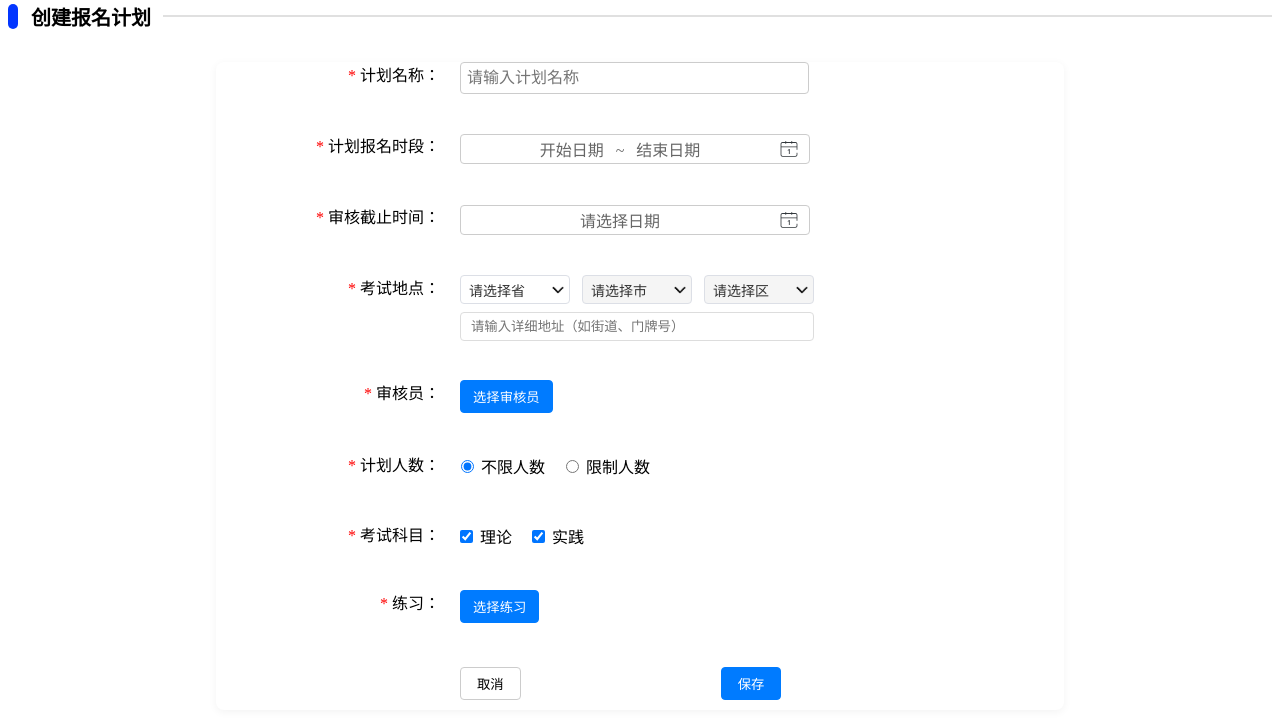
Test: 报名计划创建页面 › 表单验证测试 › 填写计划名称后应清除名称错误提示
The image size is (1280, 720).
(page scrolled)
# 先点击保存显示错误
Click the button "保存": (751, 684) left=721, top=667, right=781, bottom=700
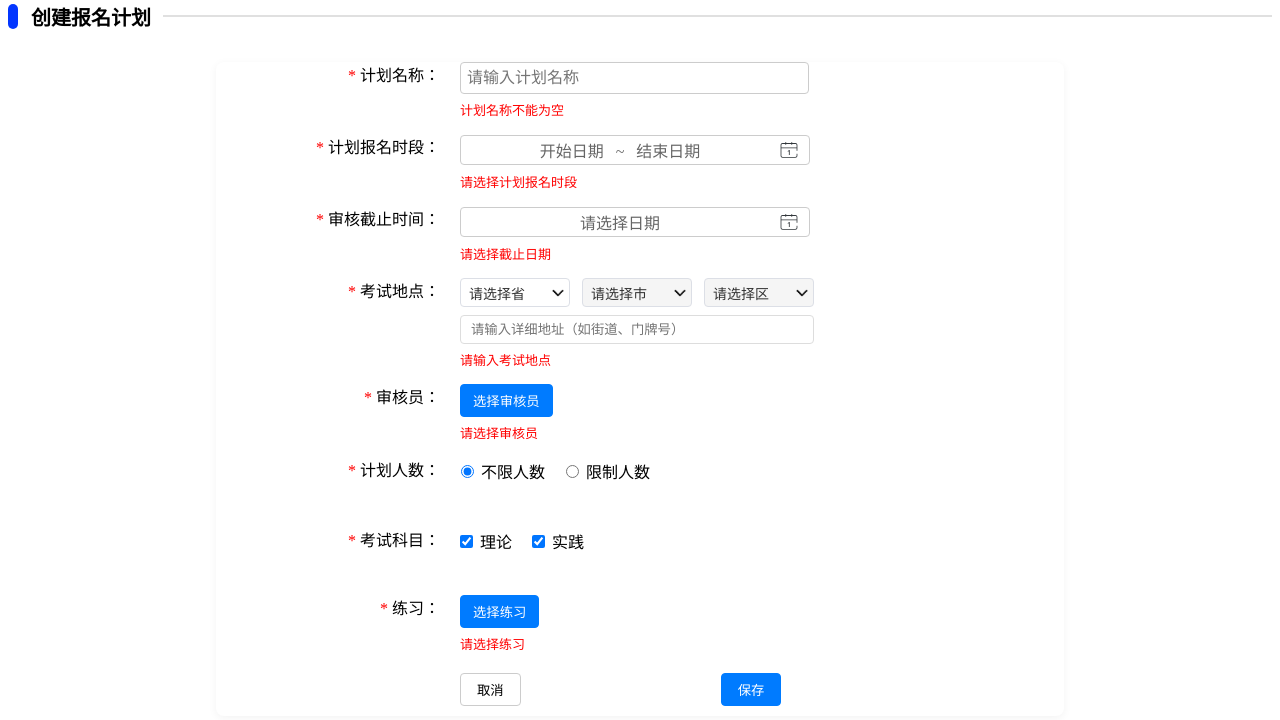
Result: the text "计划名称不能为空" is shown at left=460, top=103, right=564, bottom=118
In the field with placeholder "请输入计划名称": (634, 78) left=460, top=62, right=809, bottom=94, type "测试计划"
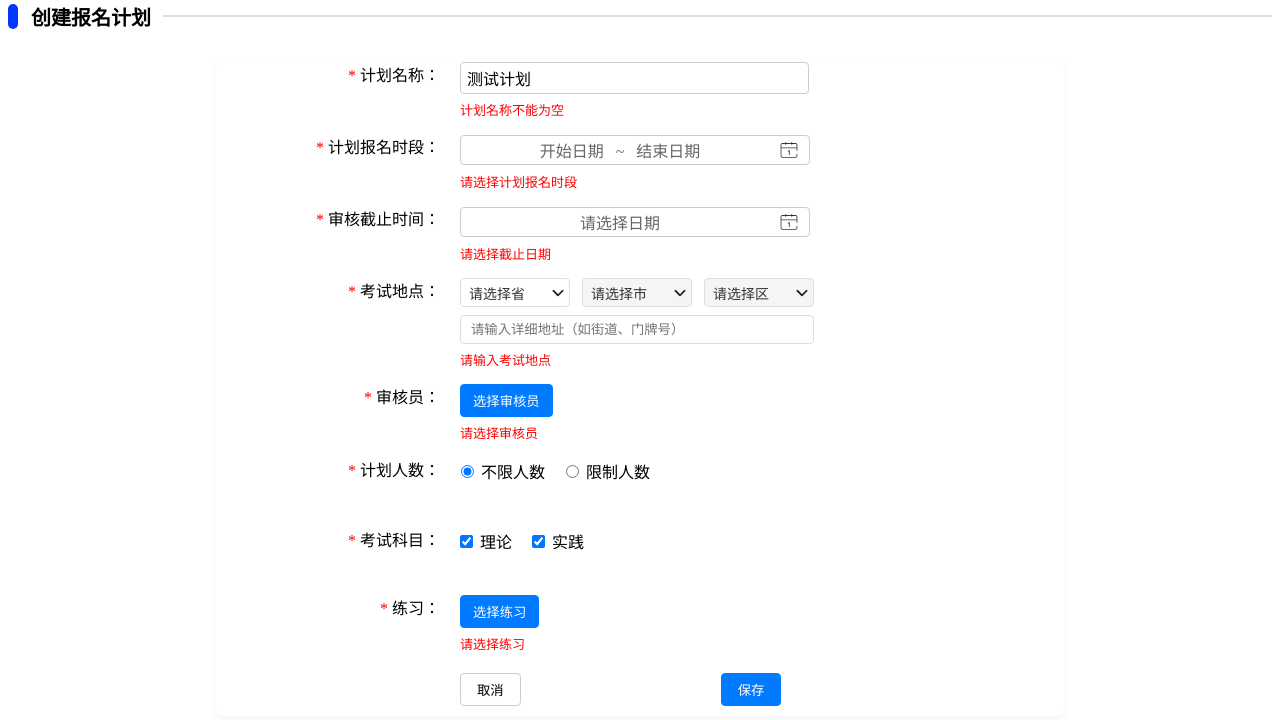
# 再次点击保存，名称错误应消失
Click the button "保存": (751, 690) left=721, top=673, right=781, bottom=706
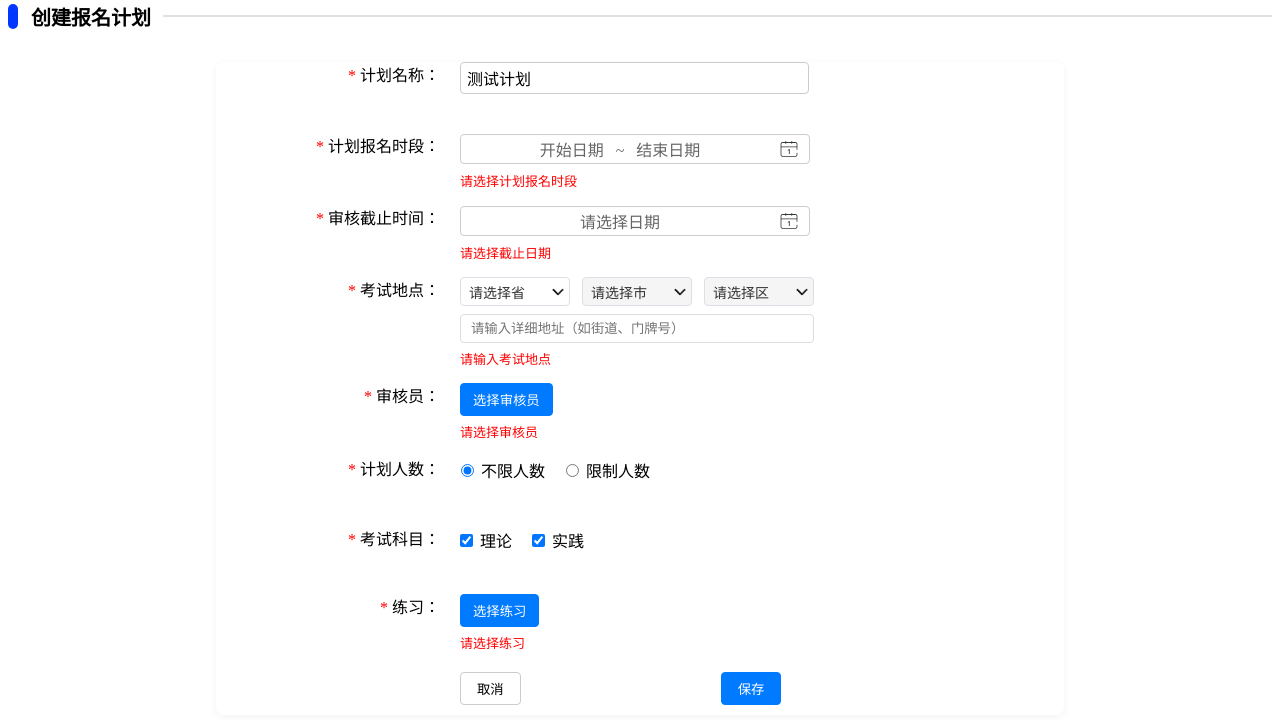
Result: the text "计划名称不能为空" is gone
